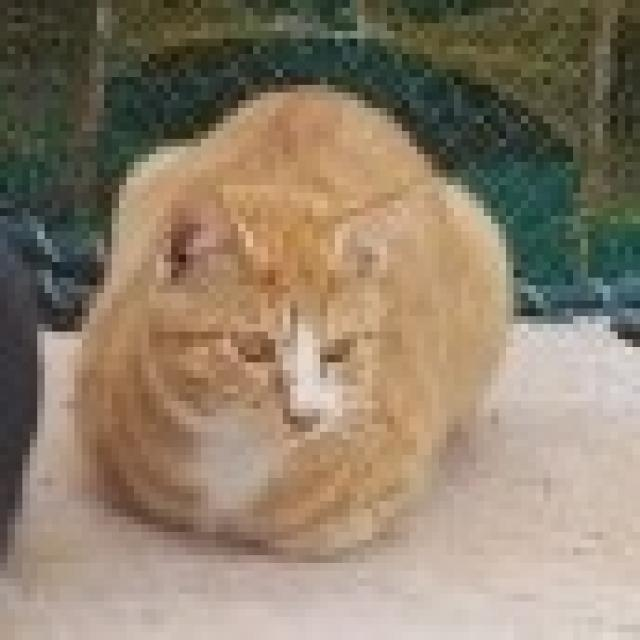cat: (67, 85, 517, 568)
